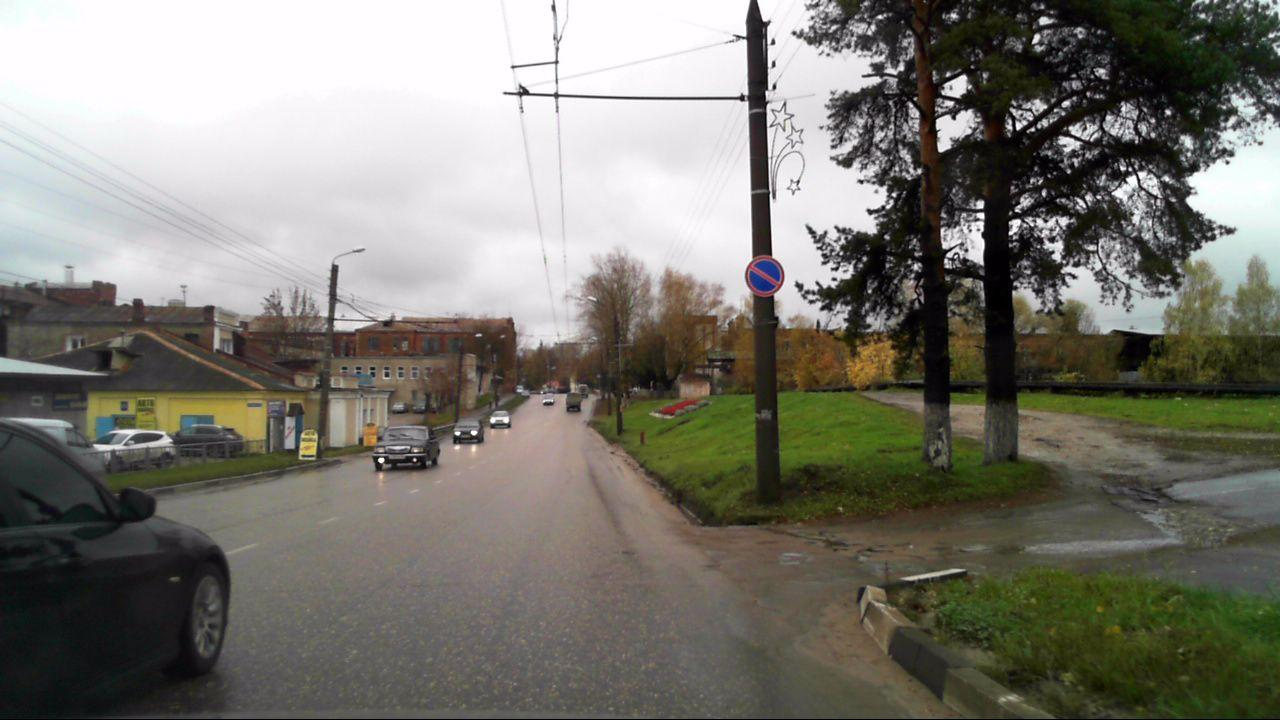3_28: (744, 254, 786, 297)
